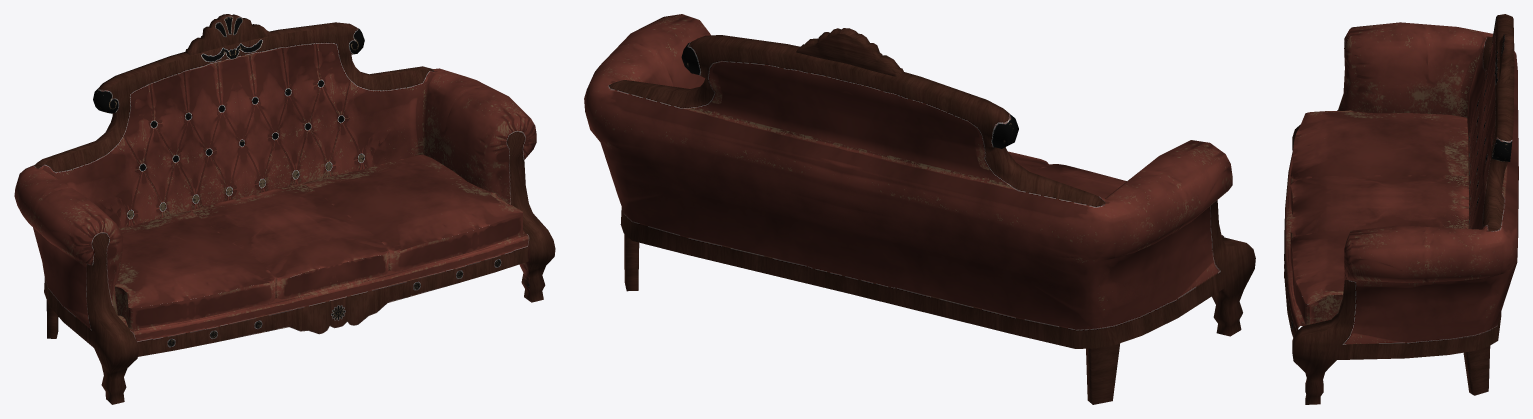
File: Sofa010_001.FBX
The picture shows the model from 3 angles, left to right: view 1: azimuth 30°, elevation 25°; view 2: azimuth 150°, elevation 25°; view 3: azimuth 270°, elevation 25°; orthographic projection. The views are drawn at different scales.
Visible parts, largest first — view 1: Sofa010_001; view 2: Sofa010_001; view 3: Sofa010_001.
Boxes of the visible parts, x1,y1,x2,y2 form: Sofa010_001: (14, 14, 555, 404); Sofa010_001: (584, 14, 1255, 404); Sofa010_001: (1284, 14, 1518, 404).
Size of the model in its own units: 304 by 163 by 131.
